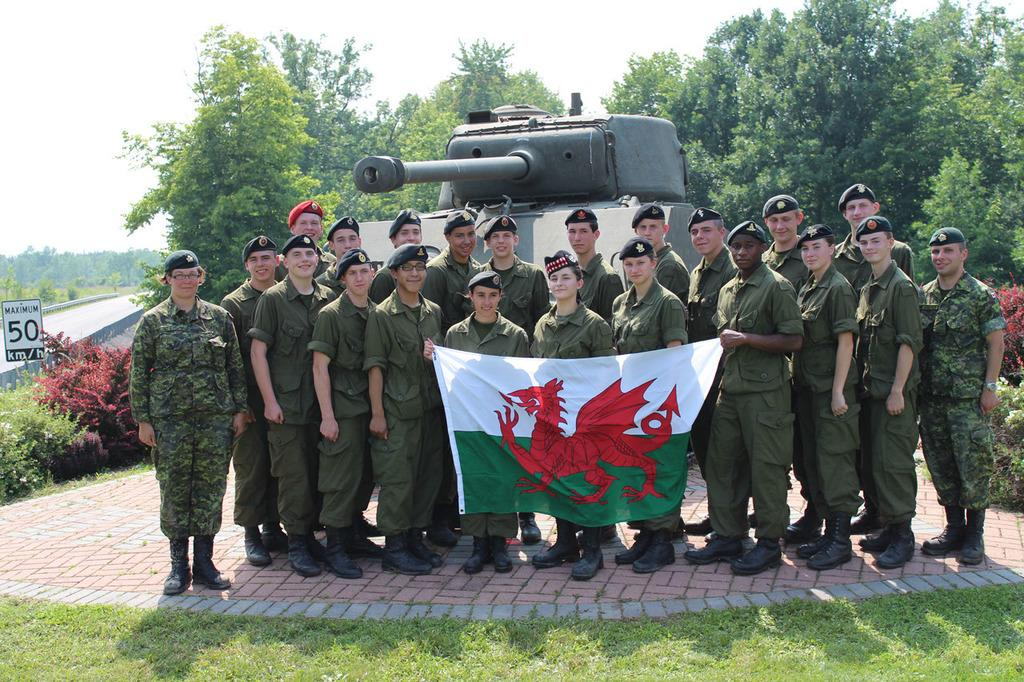Tank: (343, 93, 726, 296)
